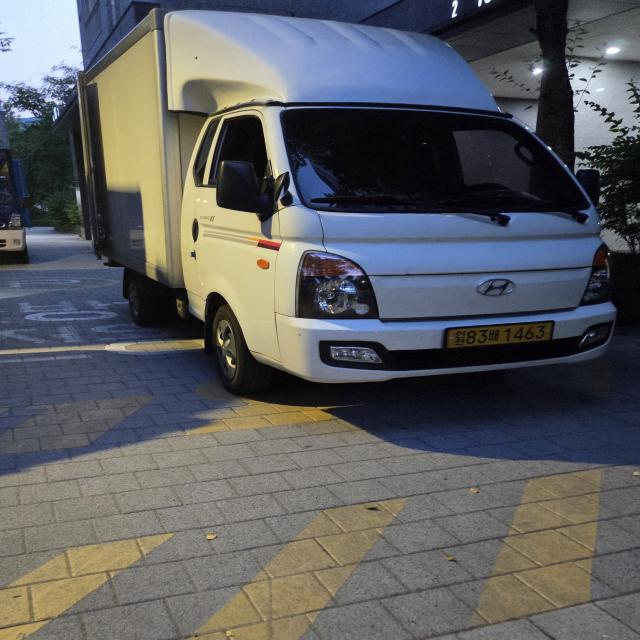car: (59, 3, 640, 427)
